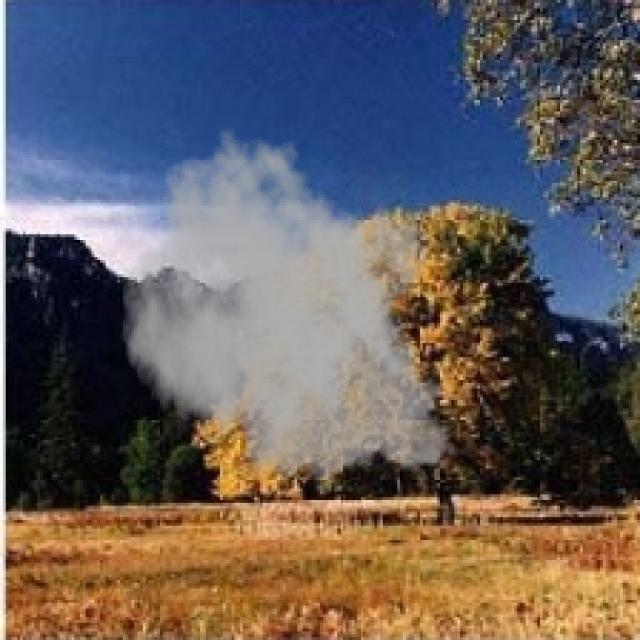Smoke: (120, 126, 466, 492)
